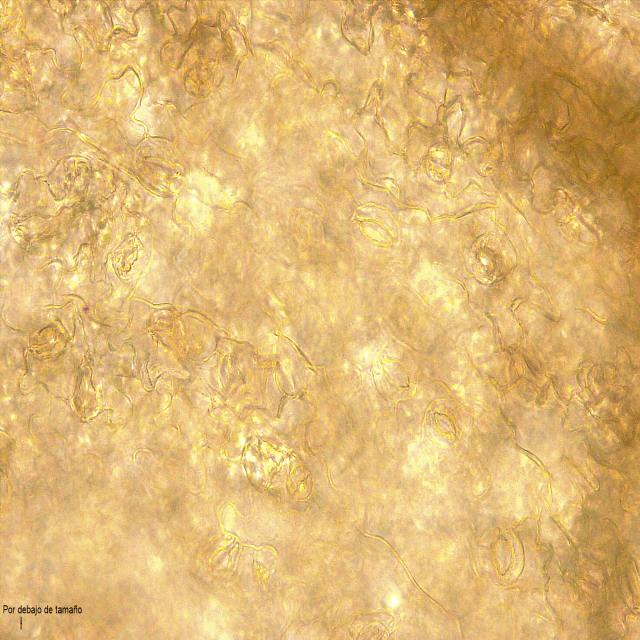Stomata: (132, 135, 187, 199), (478, 523, 527, 588), (370, 341, 420, 402), (194, 530, 244, 589), (351, 202, 400, 262), (424, 396, 465, 449), (68, 364, 104, 424), (468, 234, 506, 286), (112, 233, 146, 283)
